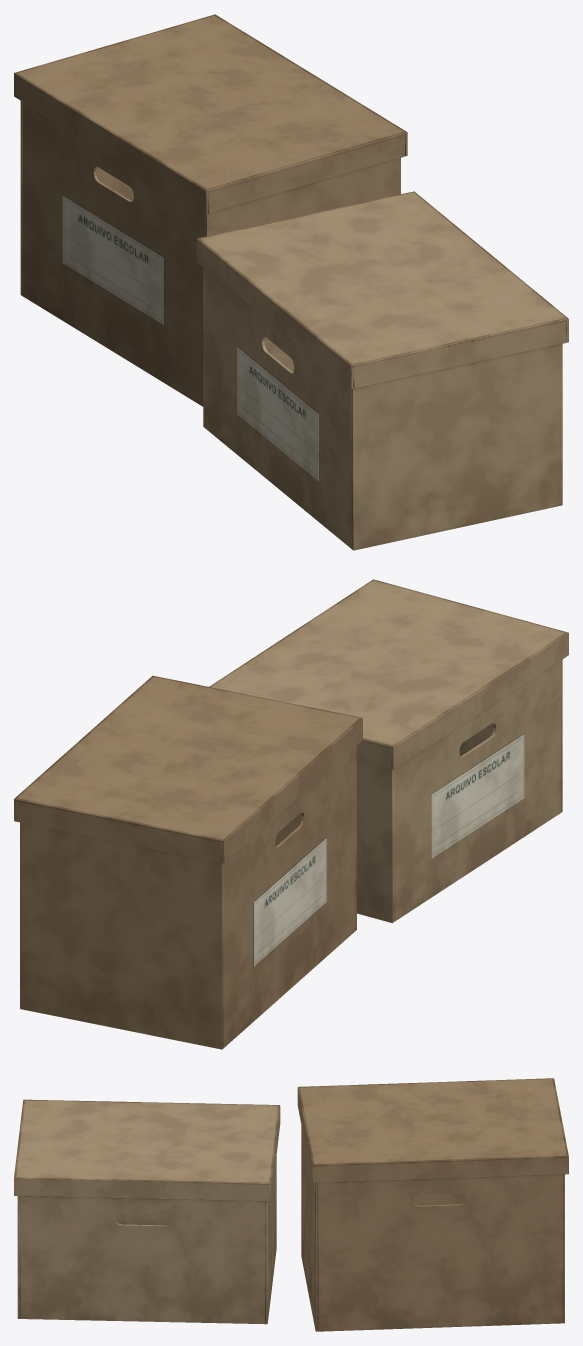
File: caixas_arquivo_sujo_realista.glb
3 views of the same model, one above another, from view 1: azimuth 30°, elevation 25°; view 2: azimuth 150°, elevation 25°; view 3: azimuth 270°, elevation 25° (orthographic). The views are drawn at different scales.
Visible parts, largest first — view 1: Direcao_Armario_Caixa_Arquivo.003, Direcao_Armario_Caixa_Arquivo.002; view 2: Direcao_Armario_Caixa_Arquivo.002, Direcao_Armario_Caixa_Arquivo.003; view 3: Direcao_Armario_Caixa_Arquivo.002, Direcao_Armario_Caixa_Arquivo.003.
Boxes of the visible parts, x1,y1,x2,y2 form: Direcao_Armario_Caixa_Arquivo.003: (196, 191, 568, 550); Direcao_Armario_Caixa_Arquivo.002: (14, 14, 407, 406); Direcao_Armario_Caixa_Arquivo.002: (14, 675, 362, 1049); Direcao_Armario_Caixa_Arquivo.003: (209, 579, 568, 923); Direcao_Armario_Caixa_Arquivo.002: (297, 1078, 568, 1331); Direcao_Armario_Caixa_Arquivo.003: (14, 1099, 280, 1324).
Size of the model in its own units: 0.3027 by 0.26 by 0.776.
Materials: 1 (1 with a texture image).
